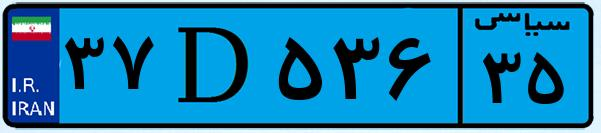3: (330, 28, 385, 110), (57, 26, 110, 100), (475, 38, 525, 113)
5: (270, 28, 330, 110), (525, 38, 570, 115)
6: (385, 28, 445, 110)
7: (110, 28, 158, 98)
D: (158, 12, 270, 120)
